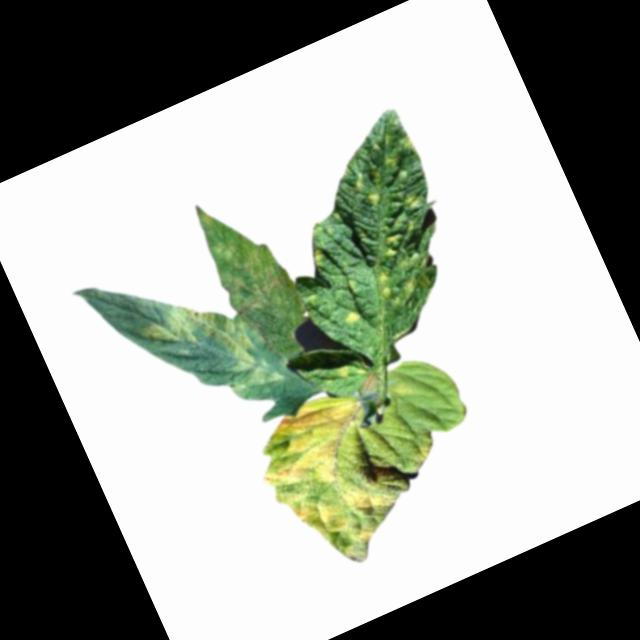Leaf_Mold: (239, 361, 467, 587), (312, 105, 471, 313), (137, 275, 284, 424), (189, 182, 298, 322), (340, 306, 362, 328), (332, 362, 351, 380)
